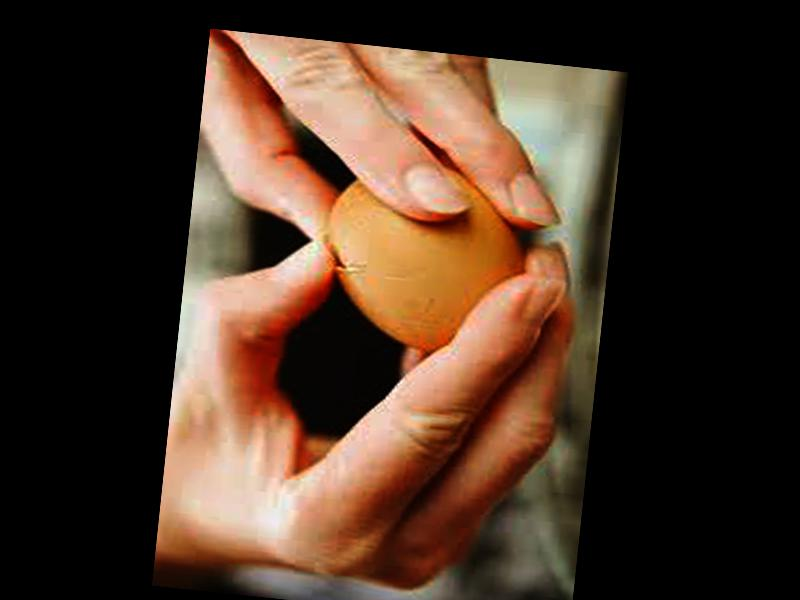Eggs: (313, 154, 537, 359)
